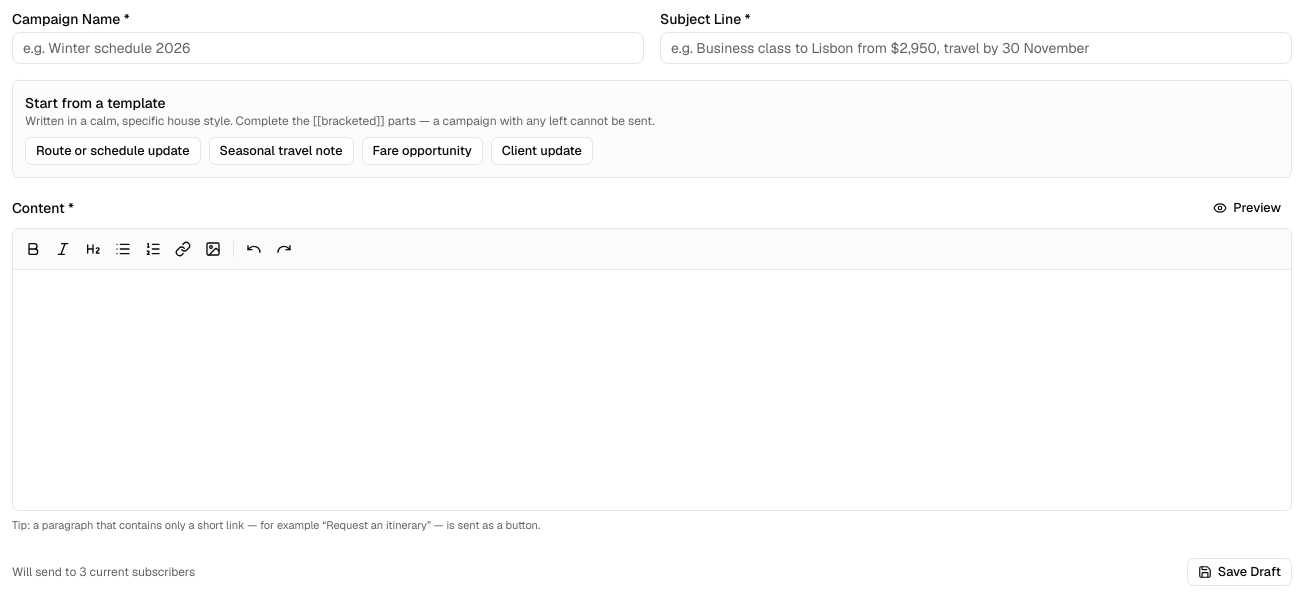
Test: CampaignForm — starters › choosing a starter keeps a subject the author already typed
Replace the text in the field with placeholder "Business class to Lisbon" with "My subject" at [976, 48], box [660, 32, 1292, 64]
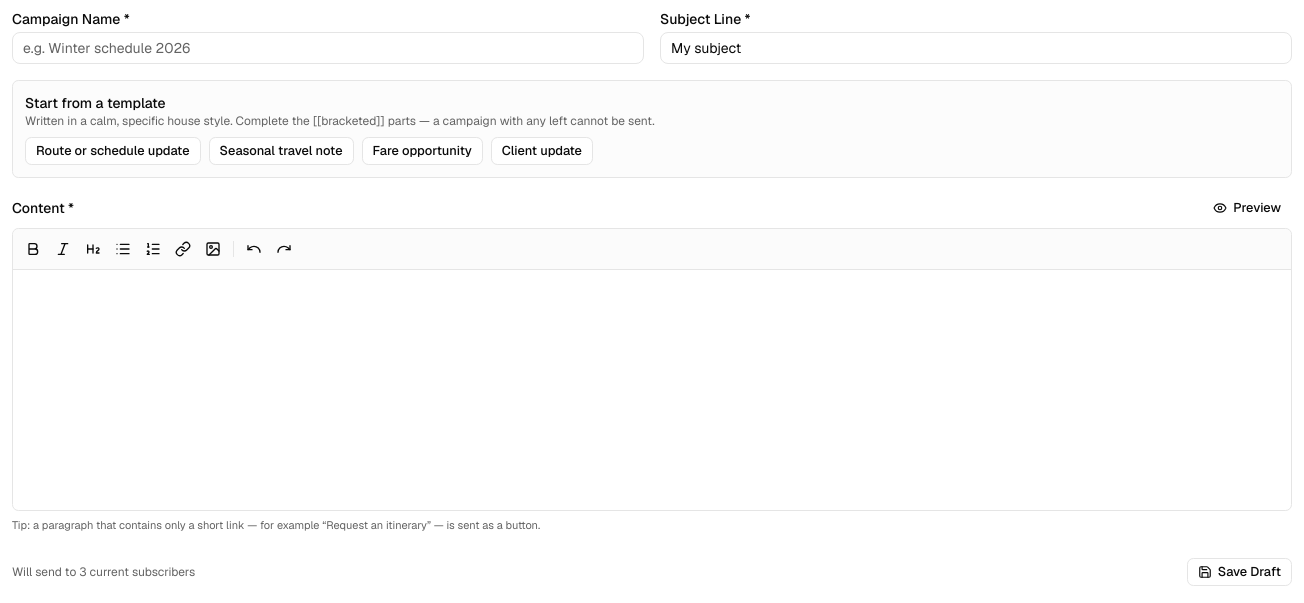
Click the button "Seasonal travel note" at [281, 151], box [208, 137, 354, 165]
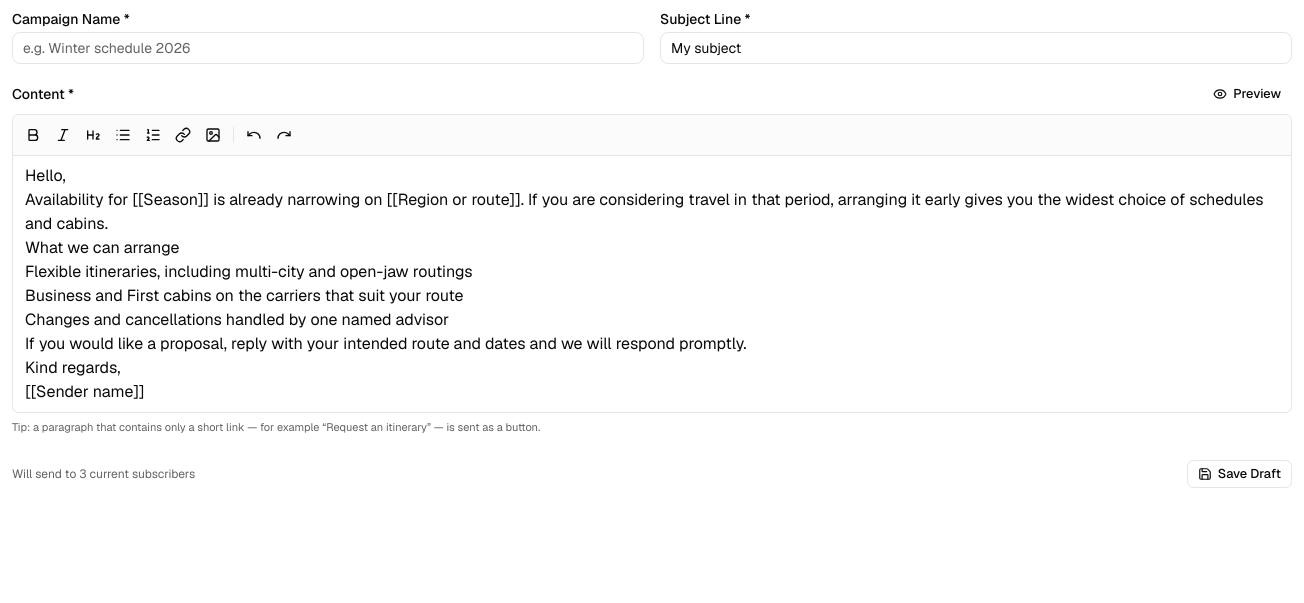
Result: the element with test id "campaign-starters" is gone
